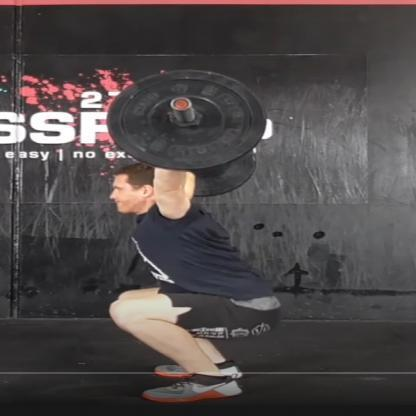barbell: (109, 71, 266, 195)
